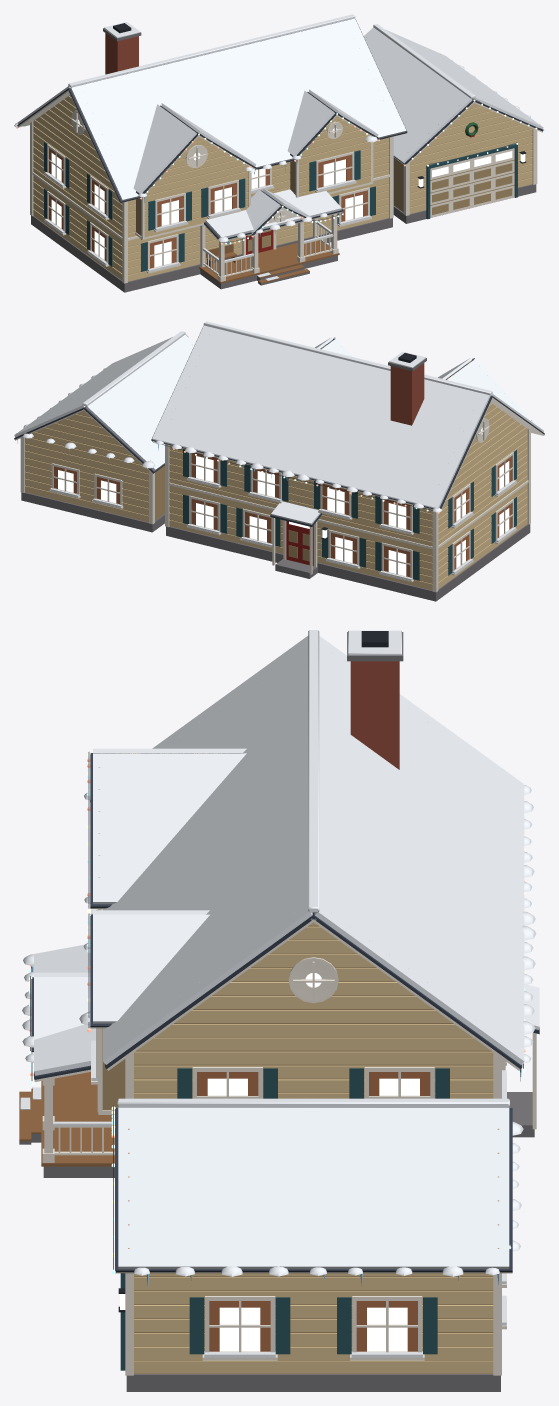
Rendered from house.fbx.
3 renders of one model, top to bottom at view 1: azimuth 30°, elevation 25°; view 2: azimuth 150°, elevation 25°; view 3: azimuth 270°, elevation 25°, orthographic. The views are drawn at different scales.
Visible parts, largest first — view 1: House_Snow, House_Siding, House_Trim, House_SidingShade, House_Stone, House_Light, House_Shutter, House_Wood, House_Curtain, House_Shingle, House_Brick, House_Iron; view 2: House_Snow, House_Siding, House_Trim, House_Stone, House_Light, House_Shutter, House_Curtain, House_SidingShade, House_Brick, House_Shingle, House_Door, House_Iron; view 3: House_Snow, House_Siding, House_Trim, House_Stone, House_SidingShade, House_Shutter, House_Shingle, House_Wood, House_Light, House_Brick, House_Curtain, House_Iron.
Boxes of the visible parts, box(x1,y1,x2,y2) form: House_Snow: box(14, 14, 543, 280); House_Siding: box(33, 37, 532, 281); House_Trim: box(17, 90, 542, 283); House_SidingShade: box(128, 106, 532, 274); House_Stone: box(31, 28, 536, 292); House_Light: box(51, 120, 525, 267); House_Shutter: box(44, 142, 517, 271); House_Wood: box(141, 239, 339, 283); House_Curtain: box(48, 148, 367, 268); House_Shingle: box(17, 19, 543, 239); House_Brick: box(105, 33, 138, 74); House_Iron: box(113, 23, 543, 242); House_Snow: box(14, 321, 543, 580); House_Siding: box(24, 334, 527, 590); House_Trim: box(14, 397, 544, 592); House_Stone: box(21, 358, 530, 601); House_Light: box(58, 427, 509, 575); House_Shutter: box(183, 449, 516, 580); House_Curtain: box(54, 452, 512, 577); House_SidingShade: box(25, 341, 471, 583); House_Brick: box(390, 363, 424, 425); House_Shingle: box(14, 326, 544, 526); House_Door: box(286, 521, 313, 565); House_Iron: box(152, 335, 474, 539); House_Snow: box(20, 630, 539, 1357); House_Siding: box(98, 680, 499, 1373); House_Trim: box(34, 908, 536, 1375); House_Stone: box(19, 632, 534, 1391); House_SidingShade: box(102, 753, 493, 1373); House_Shutter: box(120, 1068, 449, 1370); House_Shingle: box(31, 753, 539, 1271); House_Wood: box(19, 1072, 114, 1166); House_Light: box(120, 973, 419, 1351); House_Brick: box(350, 661, 399, 769); House_Curtain: box(197, 1072, 430, 1351); House_Iron: box(30, 631, 523, 1312).
Bounding box in the file's own units: 81.33 × 37 × 42.43.
